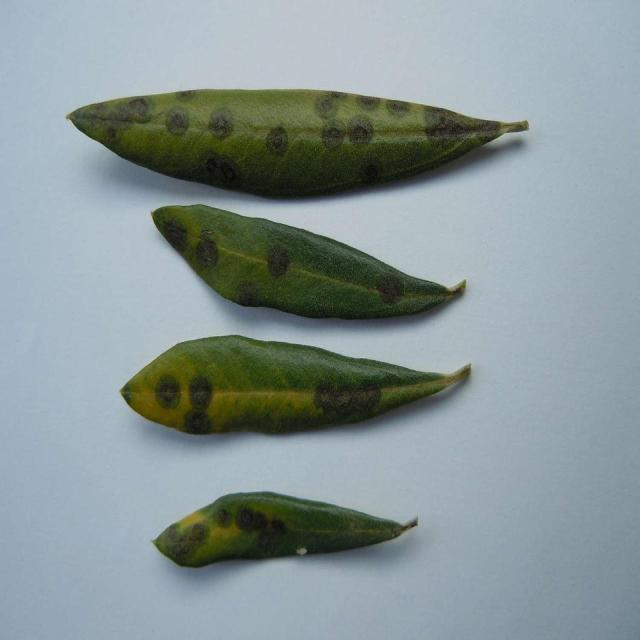Peacock Eye: (67, 89, 528, 198), (152, 204, 466, 319), (122, 335, 471, 435), (152, 492, 418, 567)
